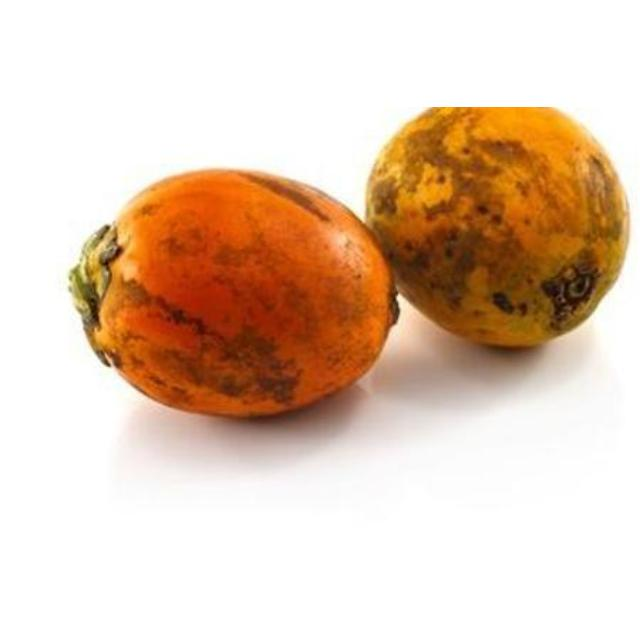good: (68, 168, 400, 421), (363, 107, 630, 350)
